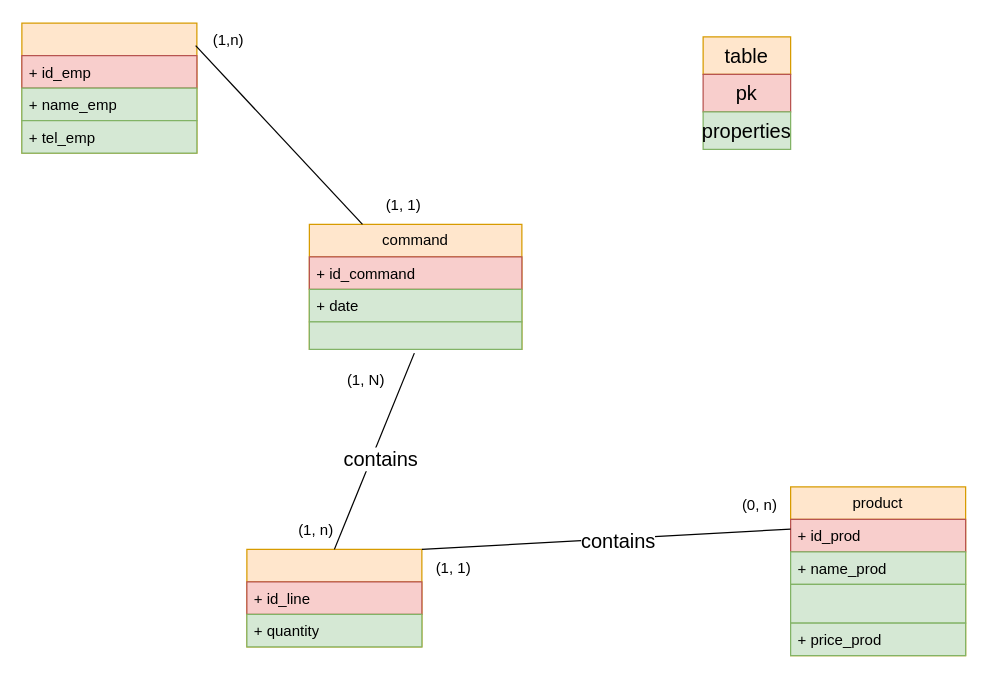
The diagram is 988 pixels wide and 680 high, and some of its shapes have lost their labels. The shapes that lost their labels are listed below. From the top down, each one's box as (x1, y1, x2, y2) in pixels, then its label:
(21, 22, 197, 153): employee
(308, 321, 522, 349): + total
(246, 548, 422, 647): purchase row
(789, 583, 966, 623): + image_prod
